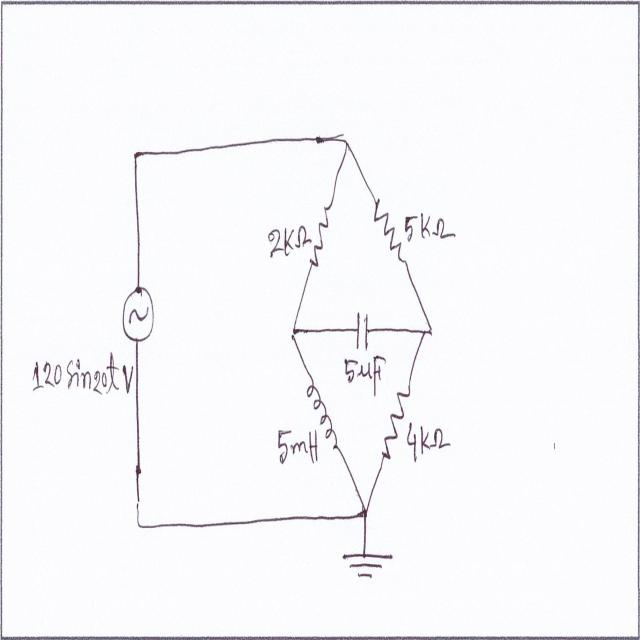ac_current: (120, 279, 160, 344)
capacitor: (355, 303, 372, 353)
ground: (339, 550, 398, 588)
inductor: (303, 375, 341, 449)
resistor: (374, 388, 412, 459), (372, 193, 404, 272), (308, 202, 340, 279)
